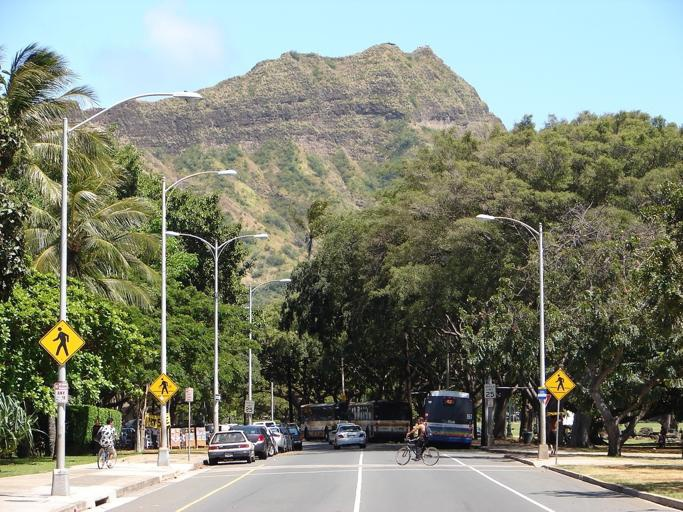non-vehicle: (395, 434, 438, 465), (94, 434, 116, 469)
